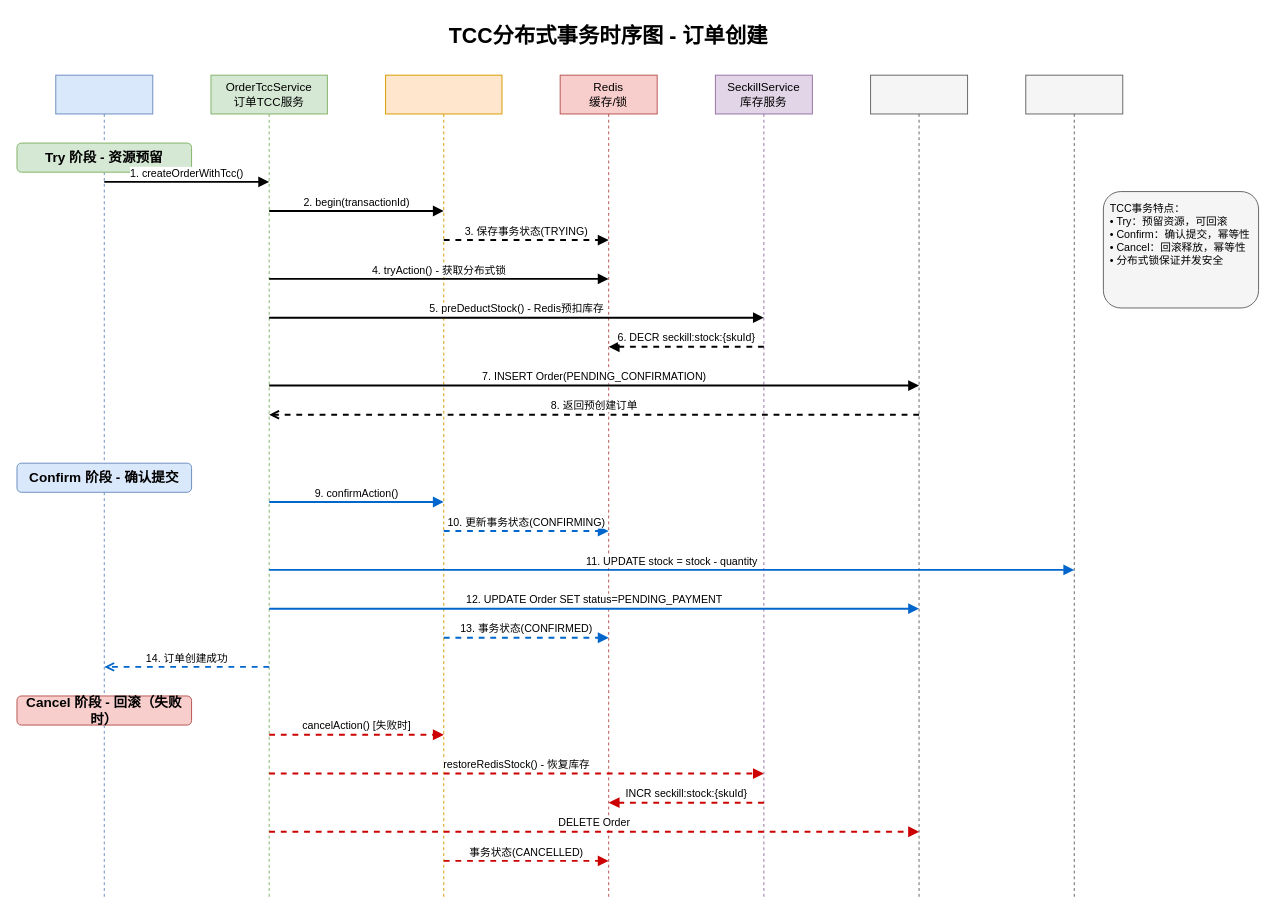
The diagram is 1276 pixels wide and 917 high, and some of its shapes have lost their labels. Each missing label, with the box of its shape:
Order DB 订单数据库: (870, 74, 968, 900)
Product DB 商品数据库: (1025, 74, 1123, 900)
TccTransaction Manager 事务管理器: (385, 74, 502, 900)
客户端: (55, 74, 153, 900)
